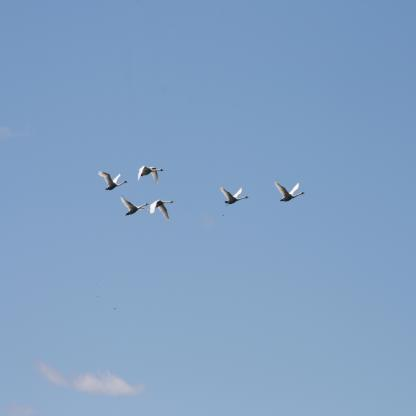bird: (274, 180, 305, 202), (98, 171, 128, 191), (121, 195, 149, 216), (220, 184, 249, 204), (150, 200, 174, 222), (138, 166, 164, 184)
